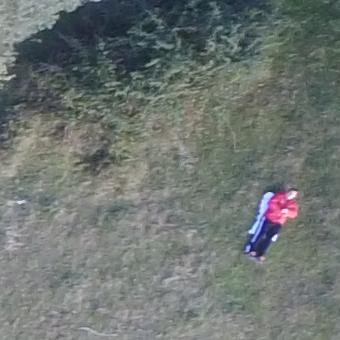human: (245, 185, 303, 263)
